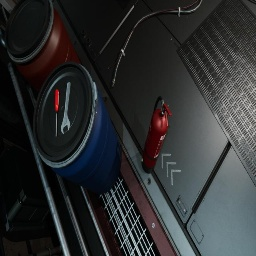FireExtinguisher ]: (141, 96, 172, 174)
